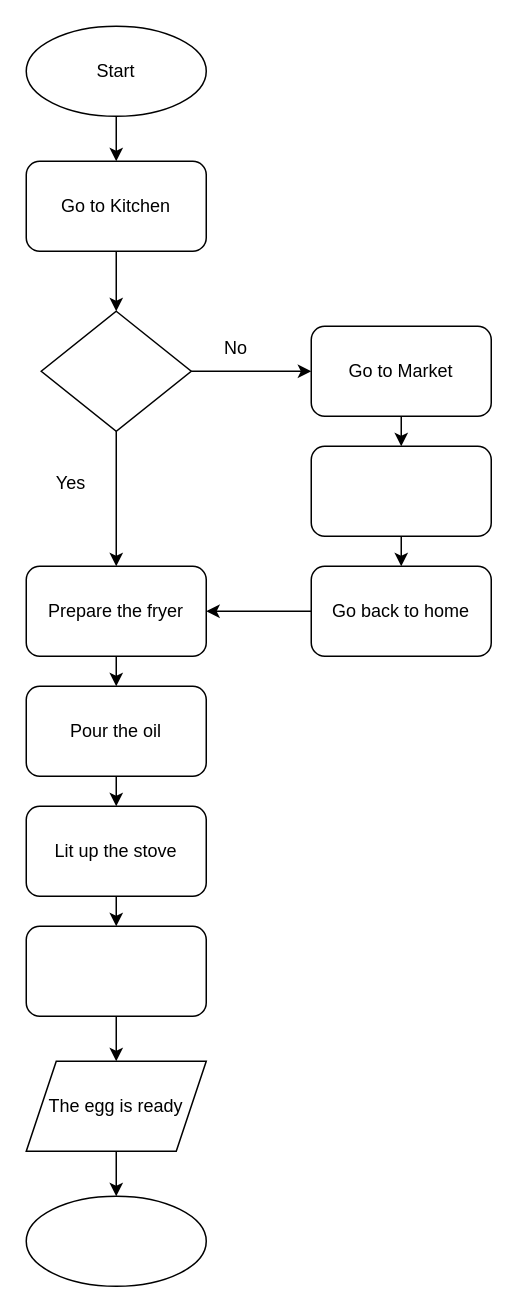
Image size: 518x1313. Some labels were removed from this diagram. The centre of each missing label's shape, as x and y in pixels:
"Buy the egg" belongs at (x=400, y=490).
"Check egg availibility" belongs at (x=115, y=370).
"Cook the egg" belongs at (x=115, y=970).
"End" belongs at (x=115, y=1240).
